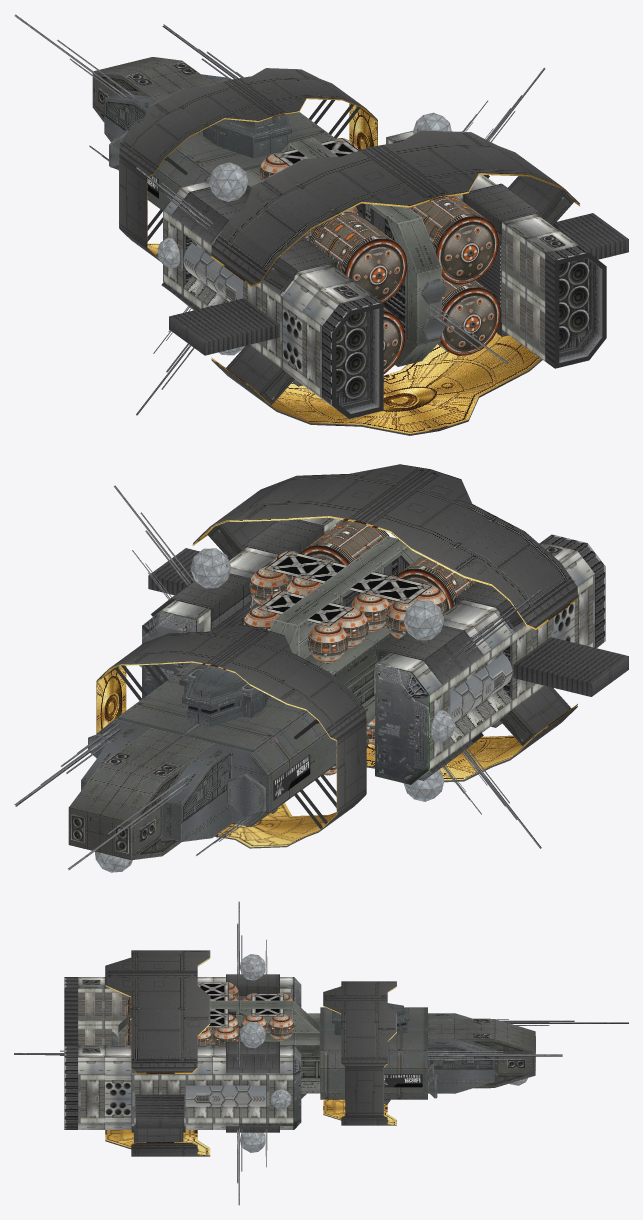
Rendered from ship_ext.glb.
3 views of the same model, one above another, from view 1: azimuth 30°, elevation 25°; view 2: azimuth 150°, elevation 25°; view 3: azimuth 270°, elevation 25° (orthographic). The views are drawn at different scales.
Parts seen in each view (by area): view 1: ship_1; view 2: ship_1, registry_0; view 3: ship_1, registry_0.
Part boxes in pixels (box(x1,y1,x2,y2)): ship_1: box(14, 14, 628, 435); ship_1: box(14, 464, 628, 872); registry_0: box(273, 754, 310, 800); ship_1: box(14, 901, 628, 1205); registry_0: box(384, 1074, 422, 1087).
Size of the model in its own units: 24.72 by 13.87 by 45.69.
23 materials, 23 textured.
